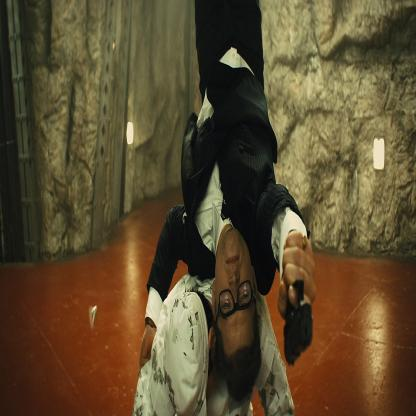gun: (286, 268, 321, 396)
